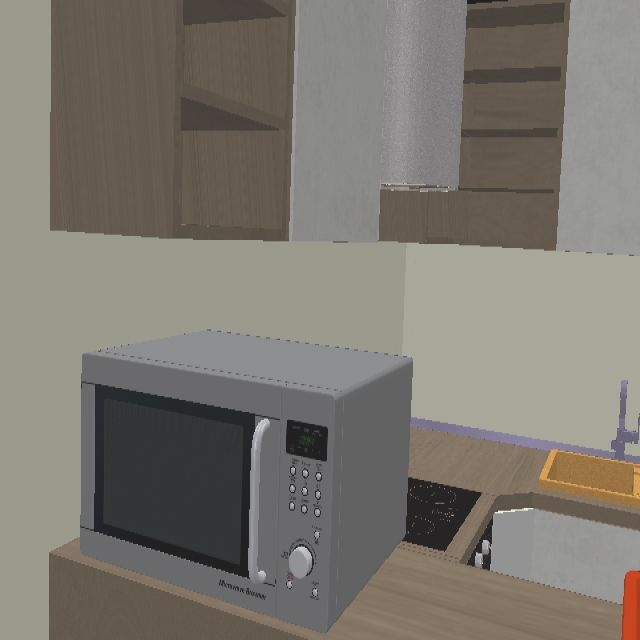cabinet: (50, 0, 640, 256)
countertop: (50, 424, 623, 640)
microwave: (80, 332, 414, 633)
sink: (537, 451, 640, 529)
